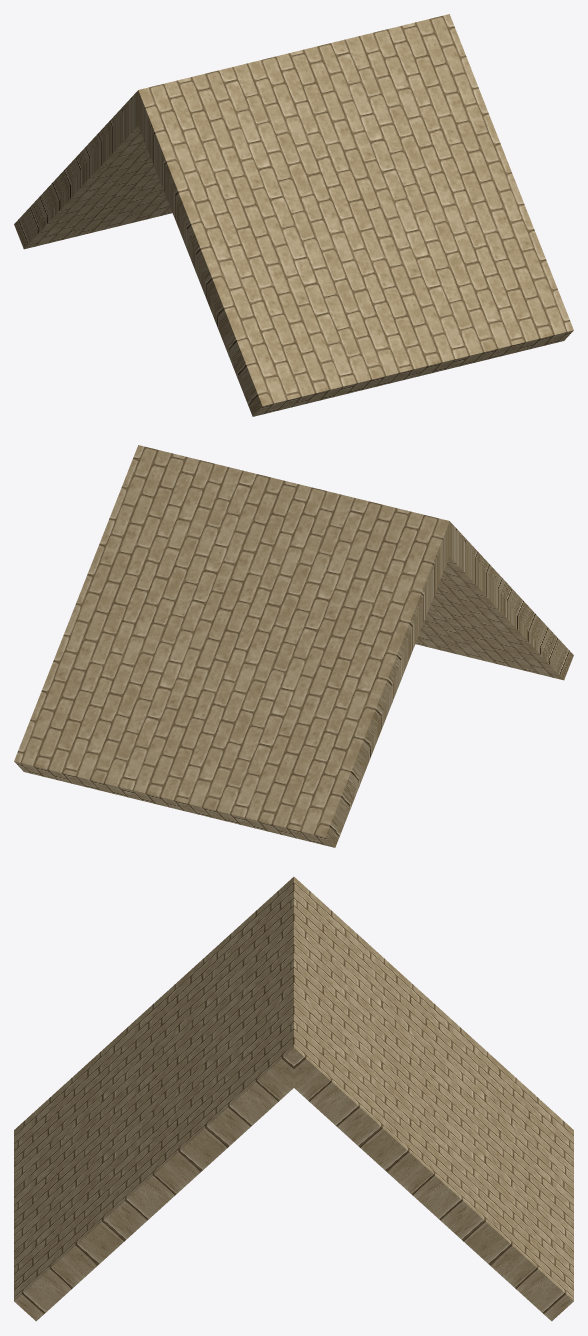
The model's file is Livingroom_Base_Z_Roof_Part.fbx.
3 renders of one model, top to bottom at view 1: azimuth 30°, elevation 25°; view 2: azimuth 150°, elevation 25°; view 3: azimuth 270°, elevation 25°, orthographic. The views are drawn at different scales.
Visible parts, largest first — view 1: Livingroom_Base_Z_Roof_Part; view 2: Livingroom_Base_Z_Roof_Part; view 3: Livingroom_Base_Z_Roof_Part.
Part boxes in pixels (box(x1,y1,x2,y2)): Livingroom_Base_Z_Roof_Part: box(14, 14, 573, 416); Livingroom_Base_Z_Roof_Part: box(14, 445, 573, 847); Livingroom_Base_Z_Roof_Part: box(14, 877, 573, 1321).
Bounding box in the file's own units: 358 × 267 × 495.
